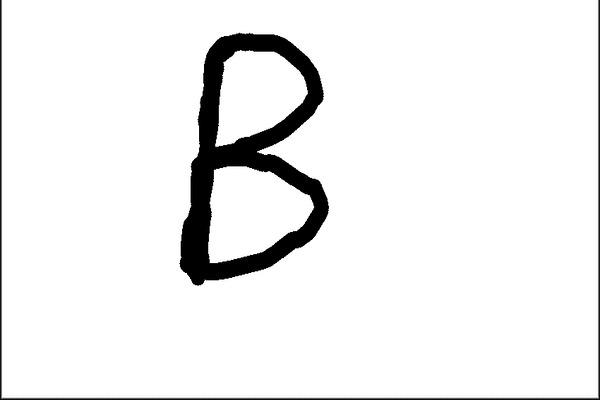B: (171, 24, 334, 287)
